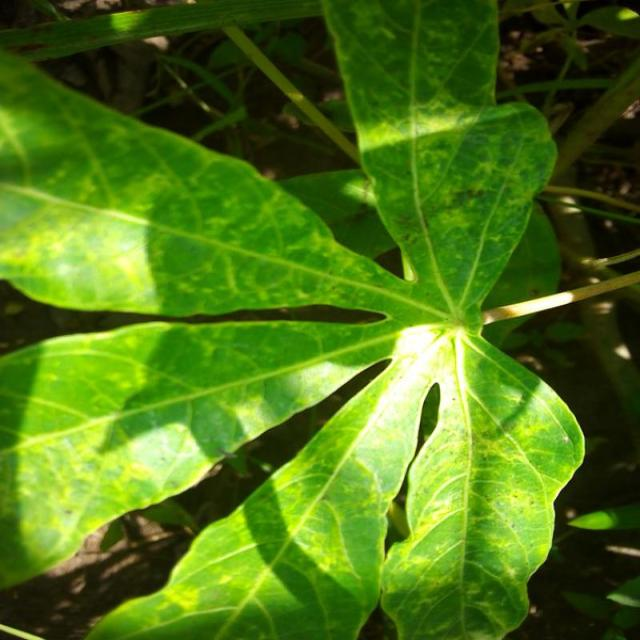cassava leaf: (2, 2, 587, 638)
